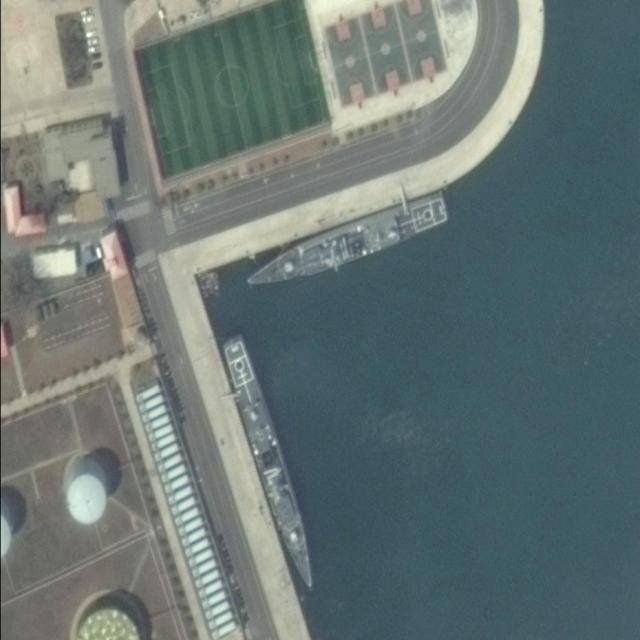Auxiliary Ships: (217, 330, 321, 595), (237, 192, 452, 294)
